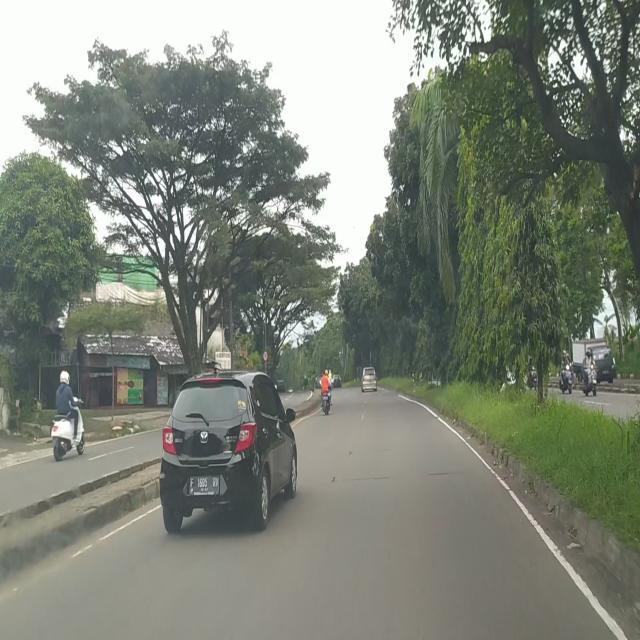Sewer Cover: (332, 466, 489, 484)
